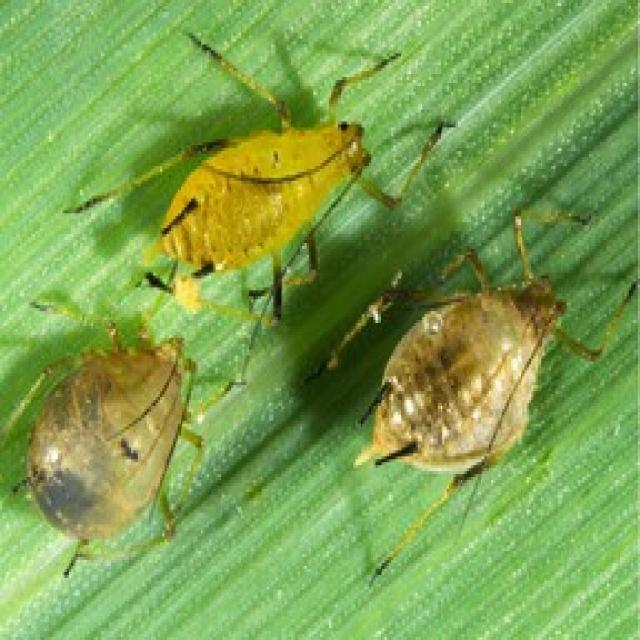Aphid-Grown-: (44, 29, 416, 307), (329, 190, 598, 528), (7, 292, 238, 592)
